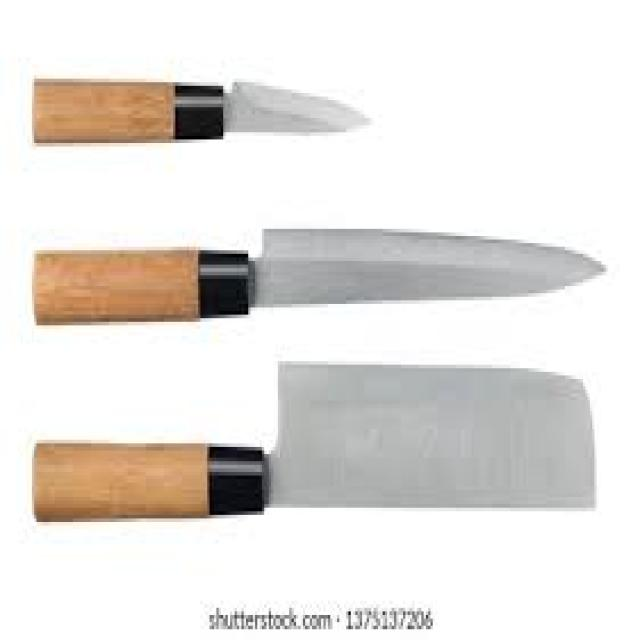Knife: (32, 358, 597, 522), (32, 222, 606, 322), (32, 75, 371, 143)
